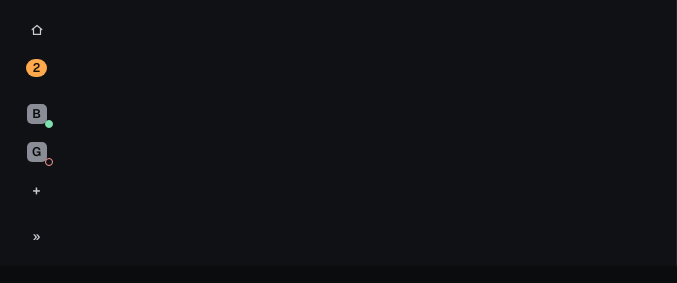
it: Sidebar › rail_items_show_a_tooltip_with_the_old_title_text
Hover over the button named "Dashboard".
mouse_move(36, 30)  # box [16,12,56,48]
Wait 400 ms
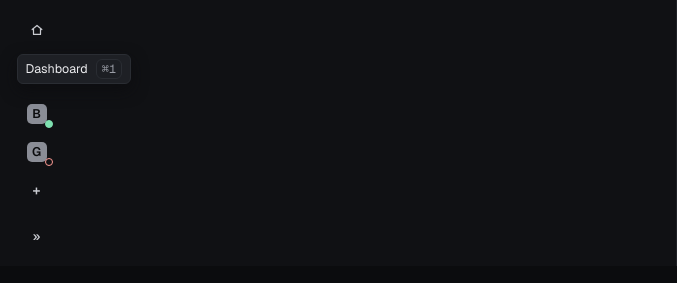
Now the element with class "tooltip" reads "Dashboard ⌘1", box [16,54,131,84]
